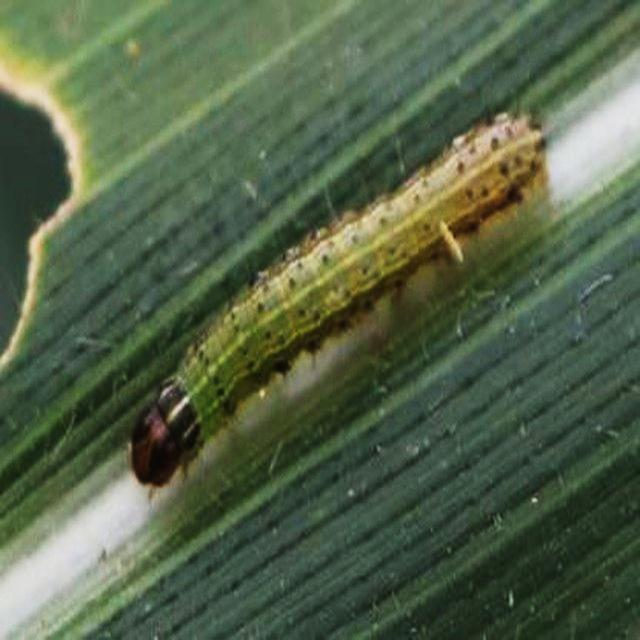gusano_cogollero: (134, 112, 542, 490)
